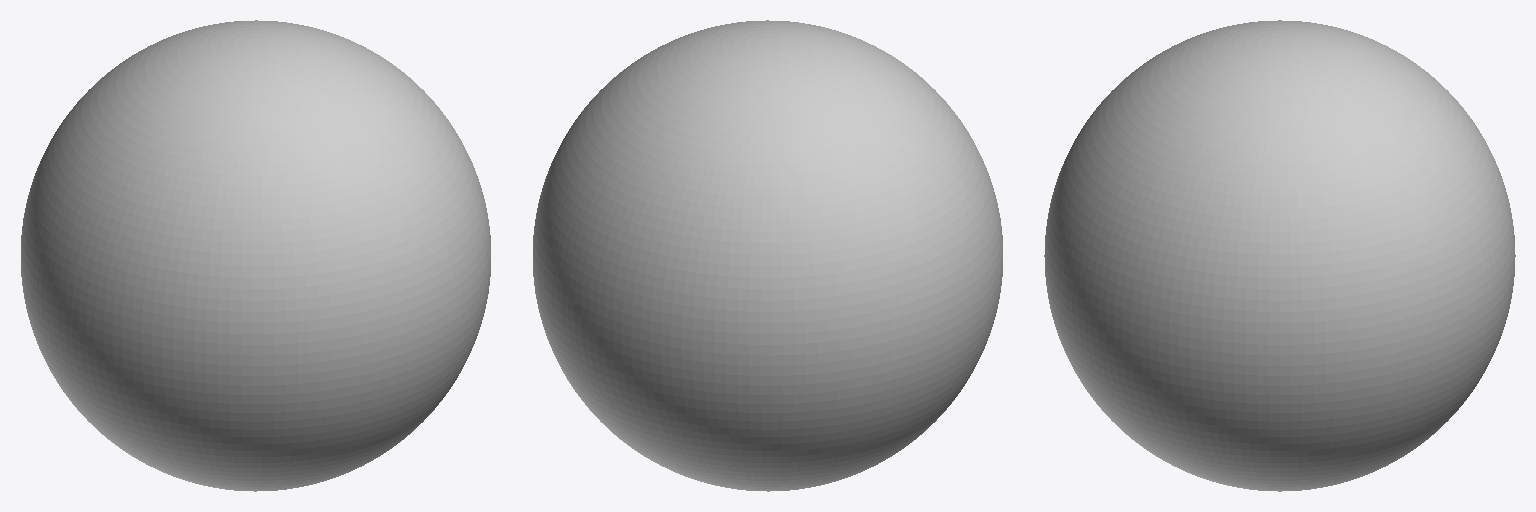
Rendered from planet-highp.obj.
The picture shows the model from 3 angles: view 1: azimuth 30°, elevation 25°; view 2: azimuth 150°, elevation 25°; view 3: azimuth 270°, elevation 25°; orthographic projection.
Visible parts, largest first — view 1: Sphere_Sphere.001; view 2: Sphere_Sphere.001; view 3: Sphere_Sphere.001.
Boxes of the visible parts, box(x1,y1,x2,y2) form: Sphere_Sphere.001: box(21, 20, 490, 491); Sphere_Sphere.001: box(533, 20, 1002, 491); Sphere_Sphere.001: box(1044, 20, 1515, 491).
Bounding box in the file's own units: 2 × 2 × 2.